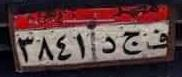1: (73, 32, 89, 60)
3: (16, 35, 34, 65)
4: (55, 34, 72, 62)
8: (37, 36, 54, 64)
daal: (100, 34, 117, 56)
faa: (144, 28, 169, 53)
jeem: (121, 29, 144, 57)
